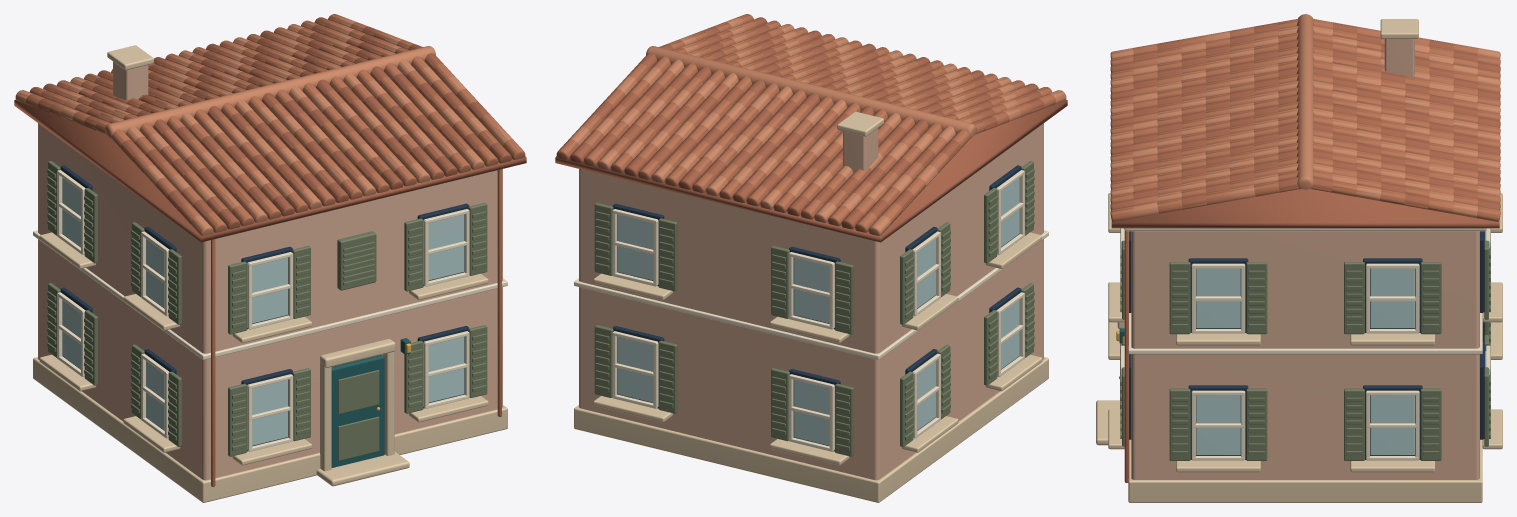
File: KKTC_House_2.fbx
3 views of the same model, side by side, from view 1: azimuth 30°, elevation 25°; view 2: azimuth 150°, elevation 25°; view 3: azimuth 270°, elevation 25° (orthographic). The views are drawn at different scales.
Visible parts, largest first — view 1: HouseVolume_YY_peachPlaster, HouseVolume_YY_roofClay.001, HouseVolume_YY_olive, HouseVolume_YY_roofClayDark.001, HouseVolume_YY_stone.001, HouseVolume_YY_roofClayLight.001, HouseVolume_YY_cream.001, HouseVolume_YY_glass.001, HouseVolume_YY_tealDark.001, HouseVolume_YY_navy.001, HouseVolume_YY_terracotta.001; view 2: HouseVolume_YY_peachPlaster, HouseVolume_YY_roofClay.001, HouseVolume_YY_roofClayDark.001, HouseVolume_YY_roofClayLight.001, HouseVolume_YY_stone.001, HouseVolume_YY_olive, HouseVolume_YY_cream.001, HouseVolume_YY_glass.001, HouseVolume_YY_navy.001; view 3: HouseVolume_YY_peachPlaster, HouseVolume_YY_roofClay.001, HouseVolume_YY_roofClayDark.001, HouseVolume_YY_roofClayLight.001, HouseVolume_YY_stone.001, HouseVolume_YY_olive, HouseVolume_YY_glass.001, HouseVolume_YY_cream.001, HouseVolume_YY_navy.001, HouseVolume_YY_terracotta.001.
Part boxes in pixels (x1,y1,x2,y2): HouseVolume_YY_peachPlaster: [38, 61, 502, 480]; HouseVolume_YY_roofClay.001: [26, 14, 525, 232]; HouseVolume_YY_olive: [47, 161, 487, 460]; HouseVolume_YY_roofClayDark.001: [14, 17, 526, 242]; HouseVolume_YY_stone.001: [33, 45, 507, 502]; HouseVolume_YY_roofClayLight.001: [15, 18, 513, 235]; HouseVolume_YY_cream.001: [33, 170, 507, 451]; HouseVolume_YY_glass.001: [62, 177, 464, 445]; HouseVolume_YY_tealDark.001: [331, 338, 410, 467]; HouseVolume_YY_navy.001: [60, 165, 469, 451]; HouseVolume_YY_terracotta.001: [211, 169, 501, 486]; HouseVolume_YY_peachPlaster: [579, 123, 1043, 480]; HouseVolume_YY_roofClay.001: [556, 14, 1055, 232]; HouseVolume_YY_roofClayDark.001: [555, 17, 1067, 242]; HouseVolume_YY_roofClayLight.001: [568, 18, 1066, 235]; HouseVolume_YY_stone.001: [574, 111, 1048, 502]; HouseVolume_YY_olive: [594, 161, 1034, 456]; HouseVolume_YY_cream.001: [574, 170, 1048, 451]; HouseVolume_YY_glass.001: [617, 177, 1019, 445]; HouseVolume_YY_navy.001: [612, 165, 1021, 451]; HouseVolume_YY_peachPlaster: [1131, 39, 1479, 479]; HouseVolume_YY_roofClay.001: [1110, 19, 1500, 221]; HouseVolume_YY_roofClayDark.001: [1110, 22, 1500, 228]; HouseVolume_YY_roofClayLight.001: [1110, 14, 1500, 217]; HouseVolume_YY_stone.001: [1096, 19, 1502, 502]; HouseVolume_YY_olive: [1120, 228, 1490, 460]; HouseVolume_YY_glass.001: [1196, 231, 1486, 455]; HouseVolume_YY_cream.001: [1120, 228, 1490, 460]; HouseVolume_YY_navy.001: [1129, 231, 1484, 459]; HouseVolume_YY_terracotta.001: [1124, 230, 1128, 482].
Size of the model in its own units: 698 by 669 by 700.
